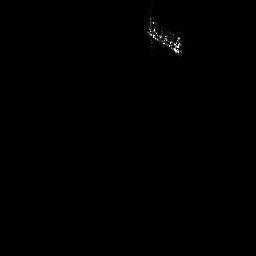ship: (144, 13, 181, 55)
